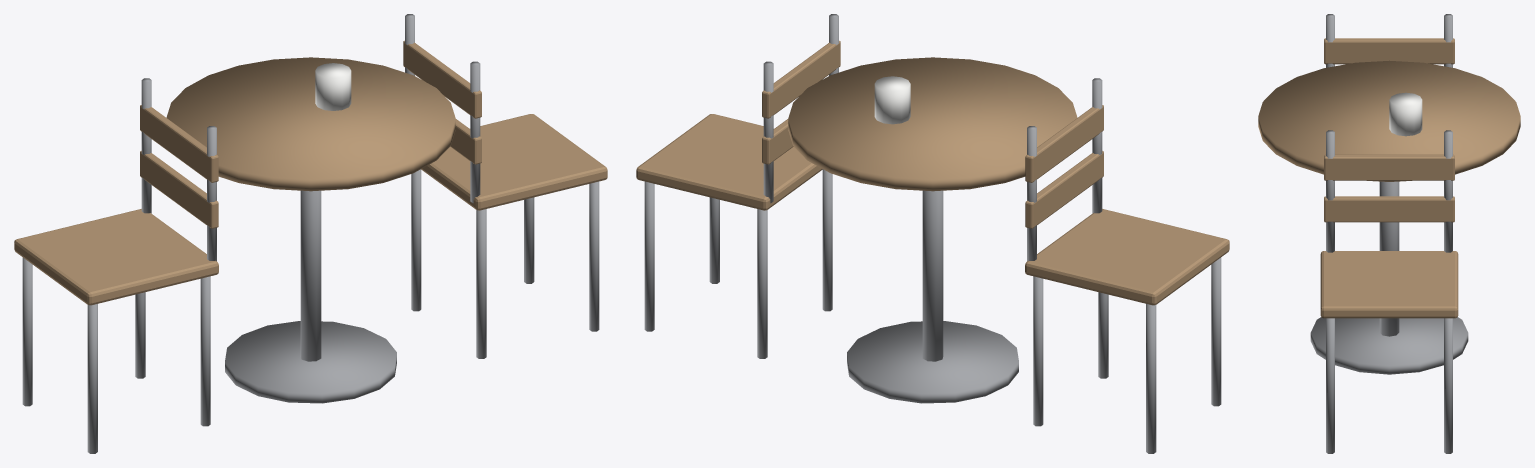
Rendered from bistro_set.glb.
The picture shows the model from 3 angles, left to right: view 1: azimuth 30°, elevation 25°; view 2: azimuth 150°, elevation 25°; view 3: azimuth 270°, elevation 25°; orthographic projection. The views are drawn at different scales.
Parts seen in each view (by area): view 1: bistro_set; view 2: bistro_set; view 3: bistro_set.
Boxes of the visible parts, box(x1,y1,x2,y2) form: bistro_set: box(14, 14, 607, 453); bistro_set: box(636, 14, 1229, 453); bistro_set: box(1258, 14, 1520, 453).
Size of the model in its own units: 1.66 by 0.9 by 0.8.
